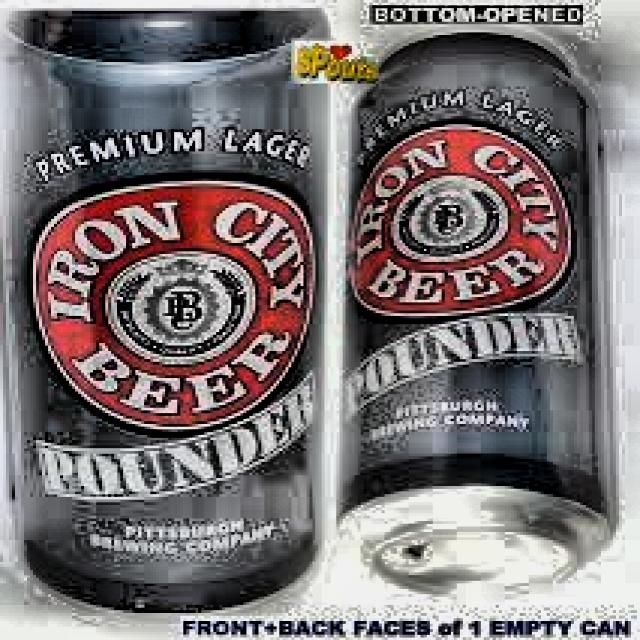can: (0, 7, 334, 623), (337, 20, 623, 605)
